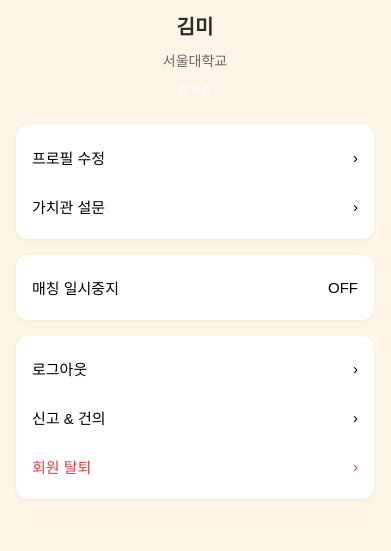
Test case: MyPage › 탈퇴 실패 시 에러 표시 + 리다이렉트 안 함
Step 1. Click the button "회원 탈퇴 ›" → {"x": 62, "y": 468}, box [16,442,374,491]
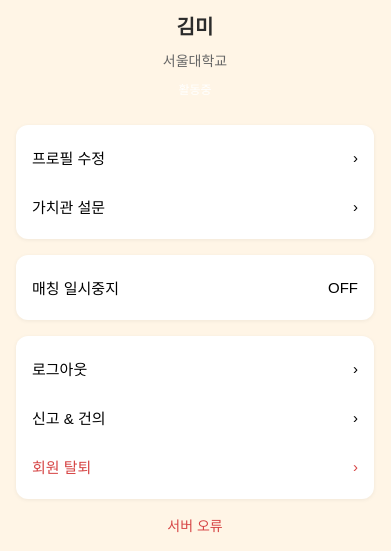
Expected: the text "서버 오류" is shown, [167,517,223,534]
